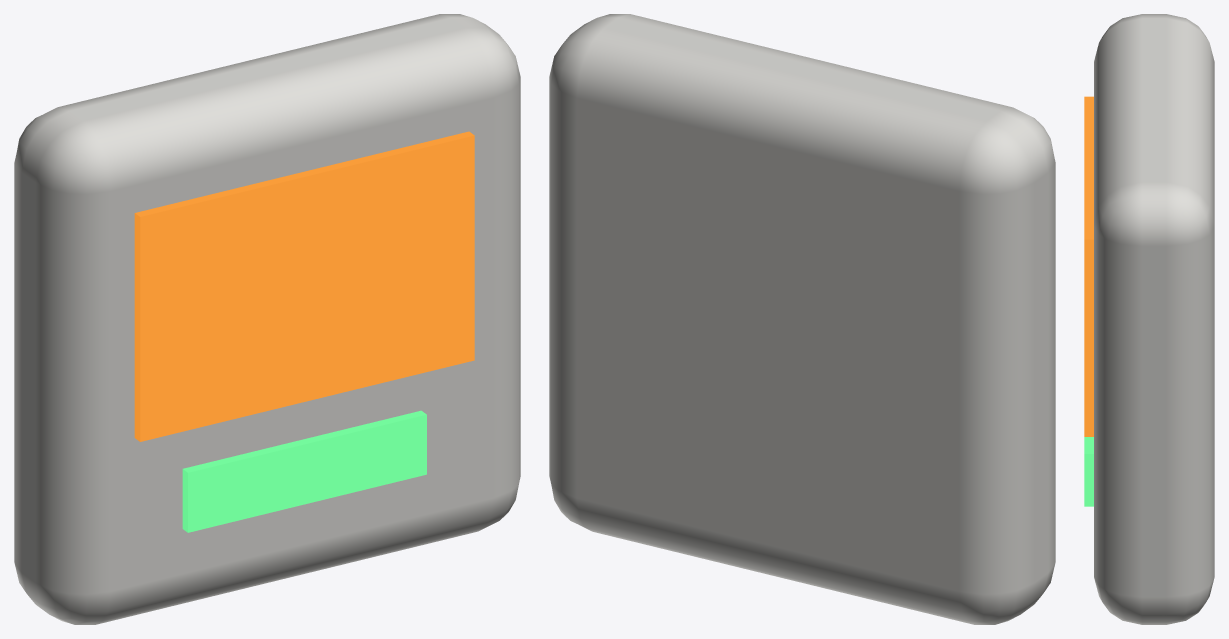
The model's file is sensor.glb.
The picture shows the model from 3 angles, left to right: view 1: azimuth 30°, elevation 25°; view 2: azimuth 150°, elevation 25°; view 3: azimuth 270°, elevation 25°; orthographic projection. The views are drawn at different scales.
Visible parts, largest first — view 1: sensor__plastic_white, sensor__display, sensor__display_green; view 2: sensor__plastic_white; view 3: sensor__plastic_white, sensor__display, sensor__display_green.
Part boxes in pixels (x1,y1,x2,y2): sensor__plastic_white: (14,14,520,624); sensor__display: (134,131,474,441); sensor__display_green: (182,410,426,532); sensor__plastic_white: (549,14,1055,624); sensor__plastic_white: (1094,14,1214,624); sensor__display: (1084,96,1093,436); sensor__display_green: (1084,437,1093,506).
Bounding box in the file's own units: 0.1 × 0.1 × 0.027.
